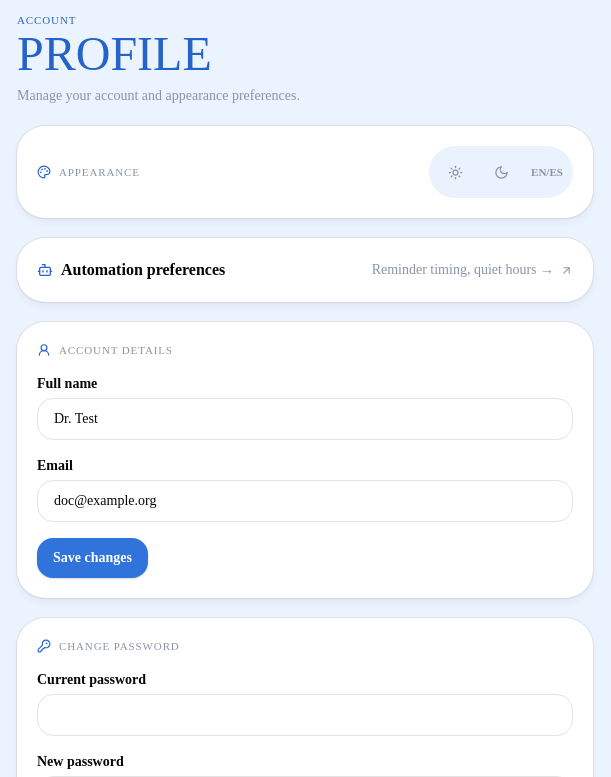
Test: ProfilePage error classification › renders saveFailed on a 500 from updateProfile
Check: the field showing "doc@example.org" below "Email" is shown, box [37,480,573,522]
Click the button "Save changes". click: (92, 558)
box: [37,538,148,578]
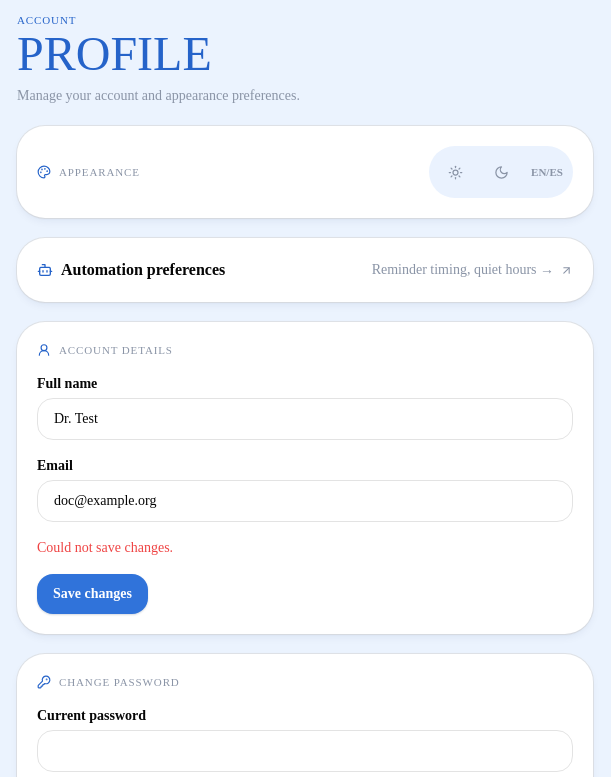
Check: the text "Could not save changes." is shown, box [37,540,173,555]
